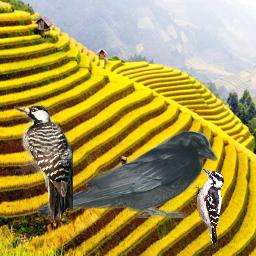Crow: (36, 130, 218, 218)
Woodpecker: (14, 105, 73, 223), (193, 168, 225, 249)
